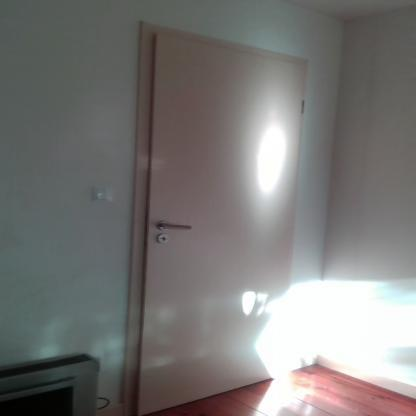door: (145, 34, 292, 396)
hinged: (300, 100, 306, 114)
lever: (159, 222, 194, 234)
